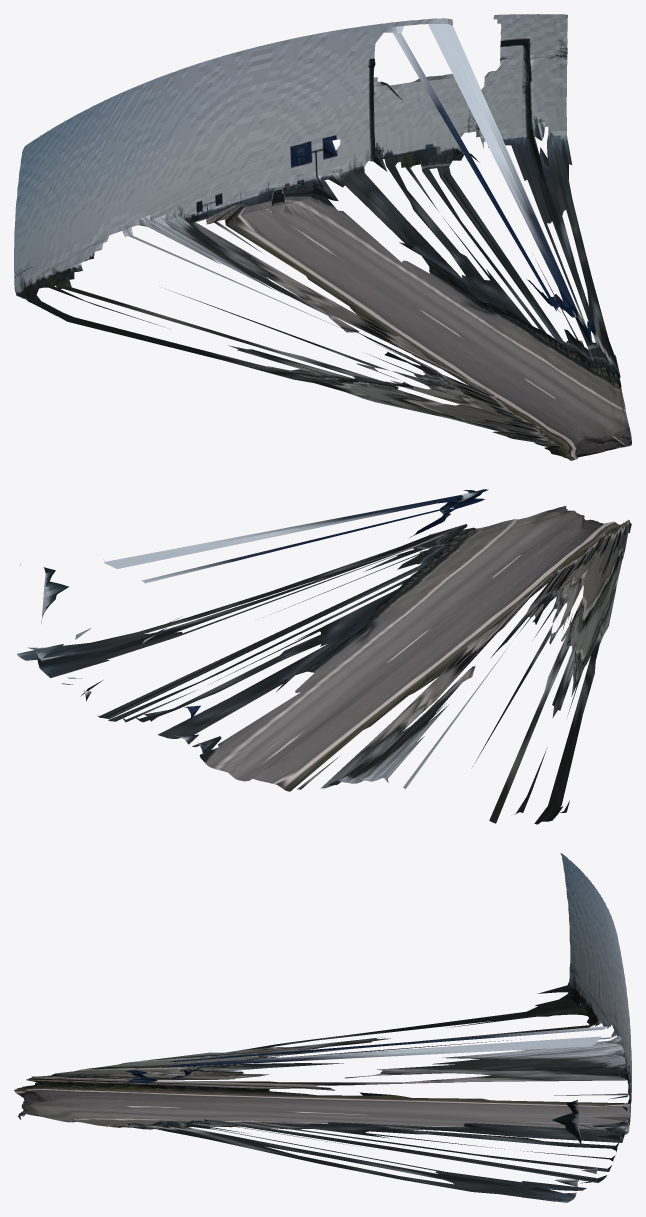
3 views of the same model, one above another, from view 1: azimuth 30°, elevation 25°; view 2: azimuth 150°, elevation 25°; view 3: azimuth 270°, elevation 25° (orthographic). The views are drawn at different scales.
Visible parts, largest first — view 1: defaultobject; view 2: defaultobject; view 3: defaultobject.
Boxes of the visible parts, left/top/right/bottom form: defaultobject: left=14, top=14, right=631, bottom=460; defaultobject: left=17, top=489, right=631, bottom=824; defaultobject: left=14, top=853, right=631, bottom=1202.
Size of the model in its own units: 41.16 by 12.75 by 44.7.
1 material, 1 textured.
